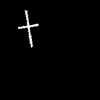single_crochet: (18, 11, 37, 46)
